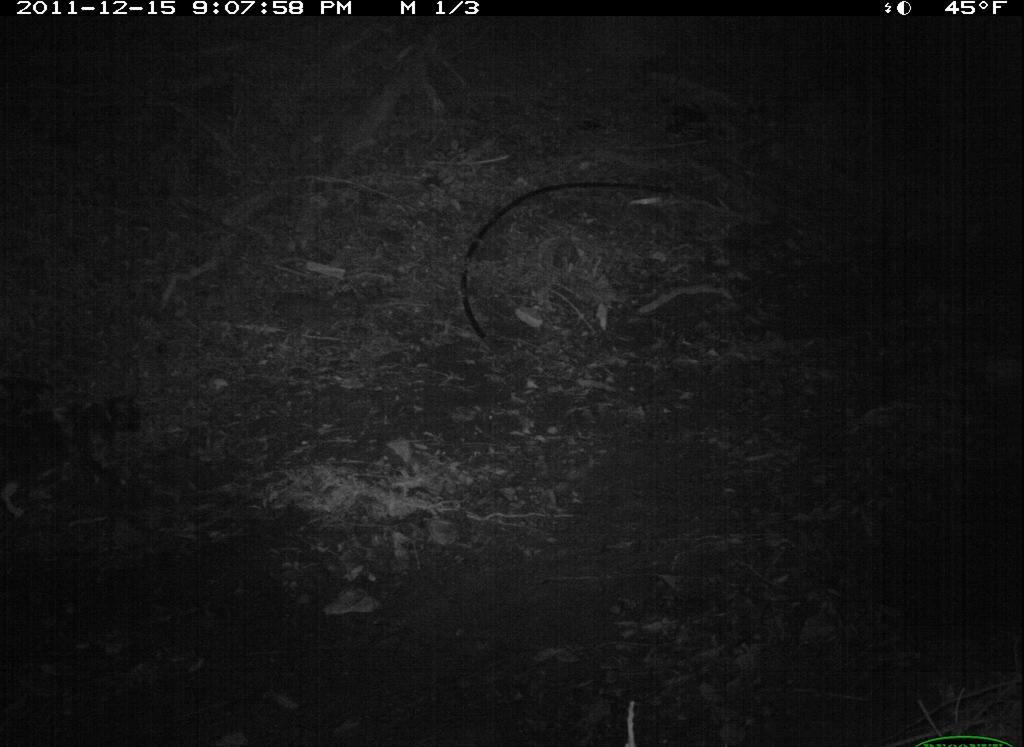cat: (1, 387, 146, 521)
